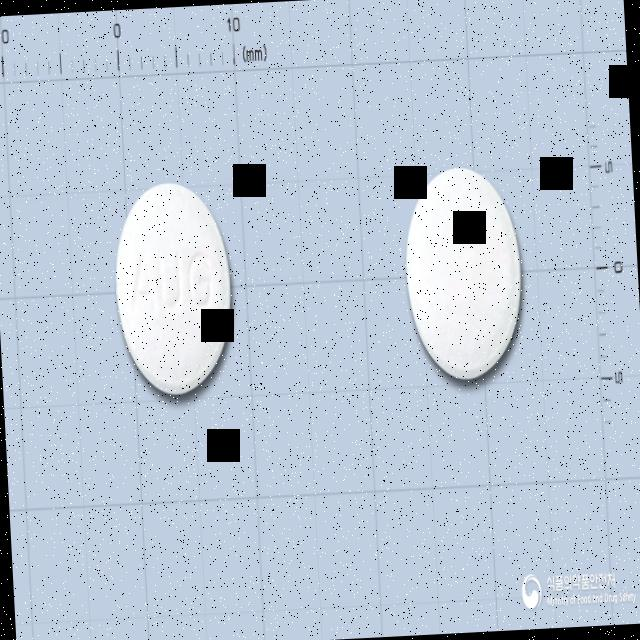Ilsung Augmentin - 625mg: (111, 178, 237, 398)
